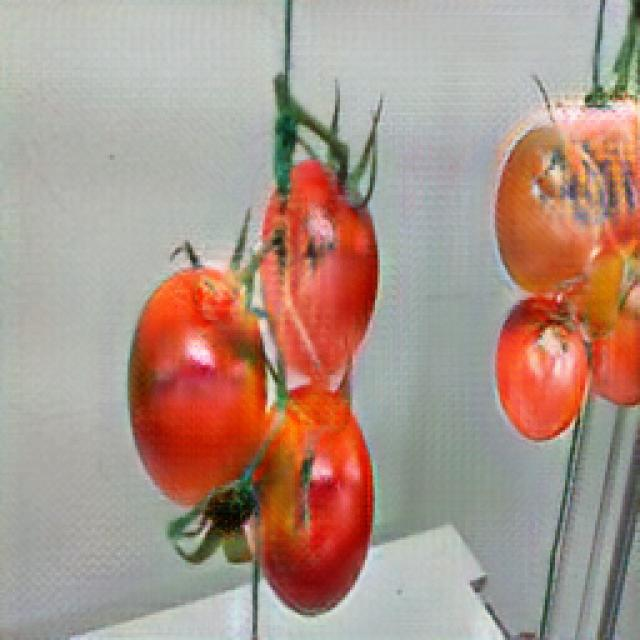overripe tomato: (121, 266, 267, 513), (248, 388, 387, 608), (258, 150, 382, 378), (476, 124, 597, 287)
